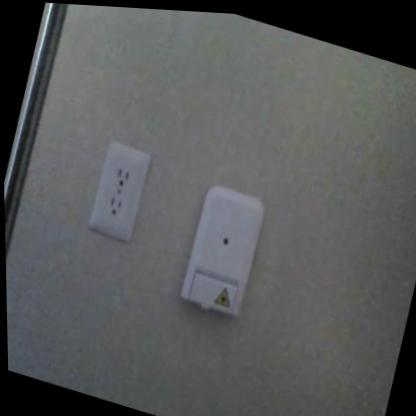OUTLET: (86, 140, 154, 244)
